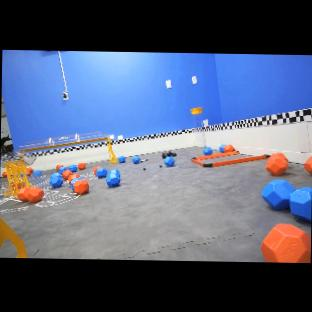V5_BLUE: (95, 167, 120, 187), (162, 151, 176, 166), (218, 144, 234, 152), (131, 156, 140, 164), (203, 147, 212, 155), (118, 156, 125, 163)
V5_RED: (16, 183, 44, 203), (58, 167, 79, 184), (73, 181, 88, 194), (93, 165, 101, 175), (26, 167, 34, 176), (78, 162, 85, 169), (2, 171, 8, 179), (56, 164, 63, 169), (11, 183, 15, 188)
